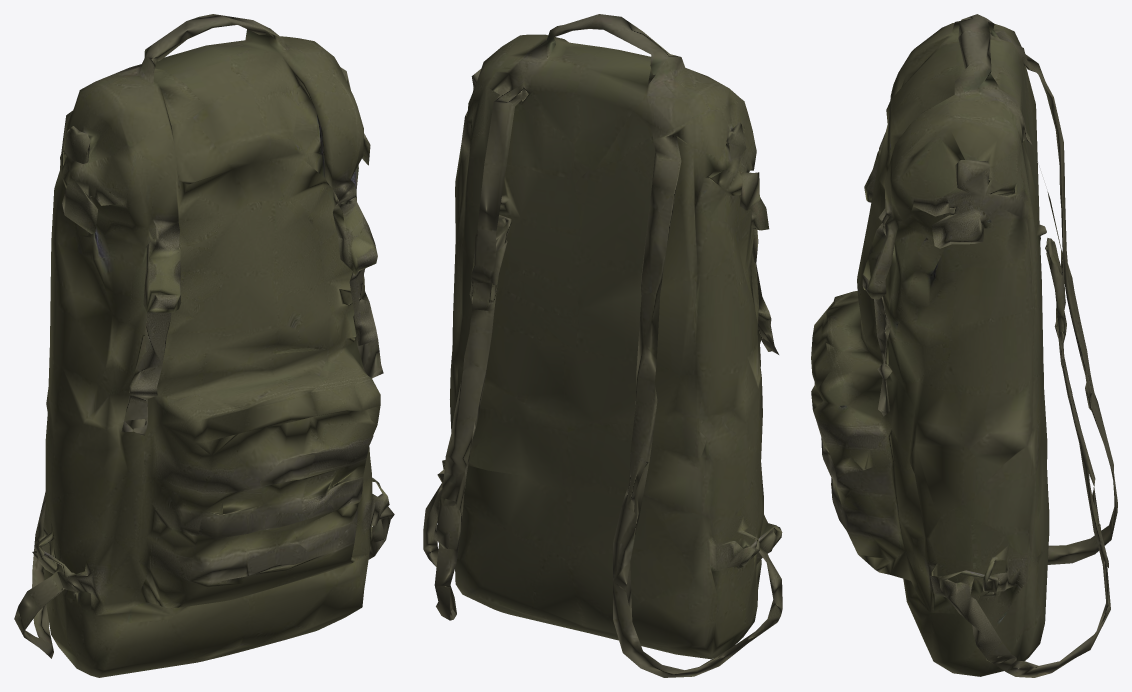
File: sihhiye_cantasi_kapali.glb
The picture shows the model from 3 angles, left to right: view 1: azimuth 30°, elevation 25°; view 2: azimuth 150°, elevation 25°; view 3: azimuth 270°, elevation 25°; orthographic projection. The views are drawn at different scales.
Visible parts, largest first — view 1: kok; view 2: kok; view 3: kok.
Part boxes in pixels (box(x1,y1,x2,y2)): kok: box(14, 14, 394, 677); kok: box(423, 14, 782, 677); kok: box(811, 14, 1117, 677).
Size of the model in its own units: 0.3047 by 0.5 by 0.2305.
Materials: 1 (1 with a texture image).
